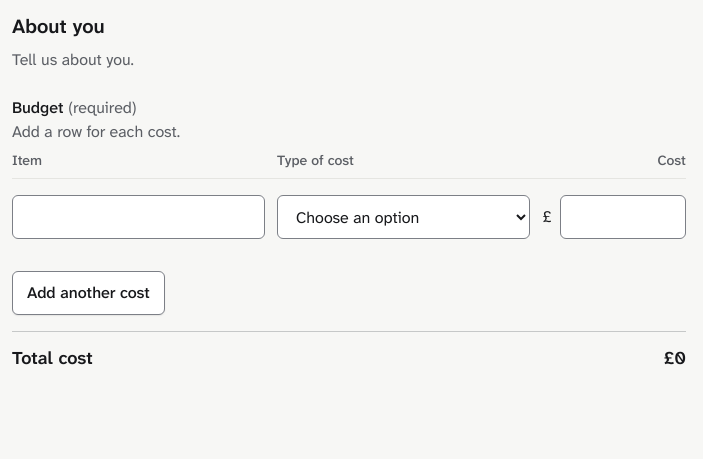
Test: TableQuestion › rows › adds a row and moves focus to its first control
This screenshot has width=703, height=459.
Click the button "Add another cost": click(88, 293) [12,271,165,315]
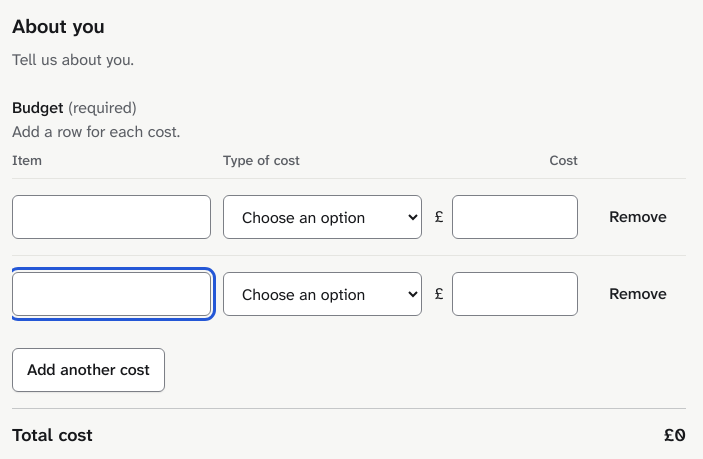
Expected: the element named "Cost 2" is shown, [12,272,686,316]
Expected: the 3rd field named "Item" is empty, [12,272,211,316]
